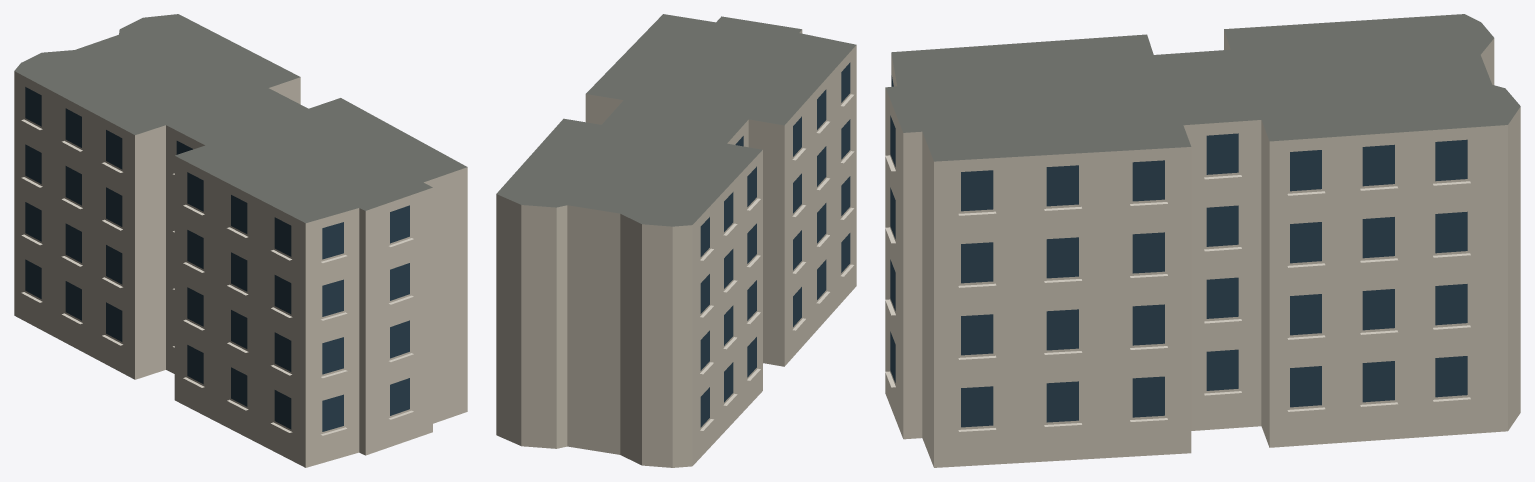
3 renders of one model, left to right at view 1: azimuth 30°, elevation 25°; view 2: azimuth 150°, elevation 25°; view 3: azimuth 270°, elevation 25°, orthographic. The views are drawn at different scales.
Parts seen in each view (by area): view 1: Footprint 0, Inferred window bays, Window sills; view 2: Footprint 0, Inferred window bays, Window sills; view 3: Footprint 0, Inferred window bays, Window sills.
Boxes of the visible parts, left/top/right/bottom form: Footprint 0: left=14, top=14, right=467, bottom=467; Inferred window bays: left=25, top=87, right=409, bottom=431; Window sills: left=21, top=119, right=413, bottom=435; Footprint 0: left=496, top=14, right=856, bottom=467; Inferred window bays: left=700, top=62, right=850, bottom=427; Window sills: left=700, top=94, right=854, bottom=430; Footprint 0: left=885, top=14, right=1520, bottom=467; Inferred window bays: left=890, top=75, right=1467, bottom=427; Window sills: left=885, top=155, right=1470, bottom=431.
Size of the model in its own units: 13.52 by 12.88 by 24.21.
